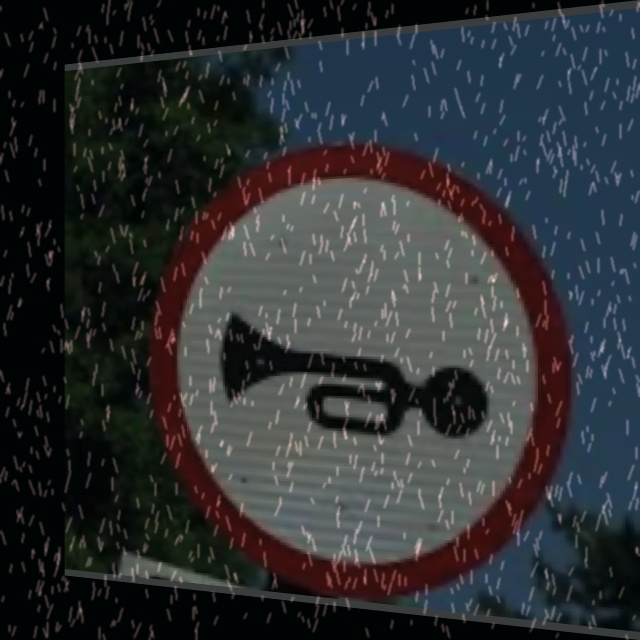Compulsory_Sound_Horn: (158, 139, 555, 582)
